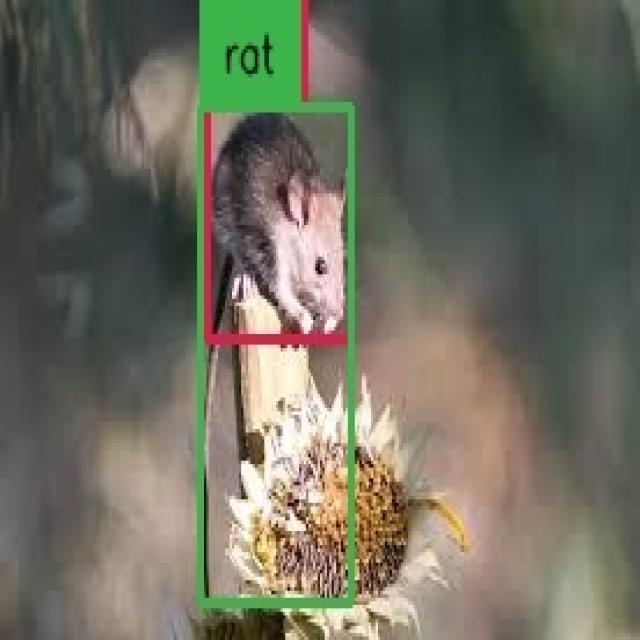rat: (200, 106, 350, 602), (207, 106, 351, 341)
